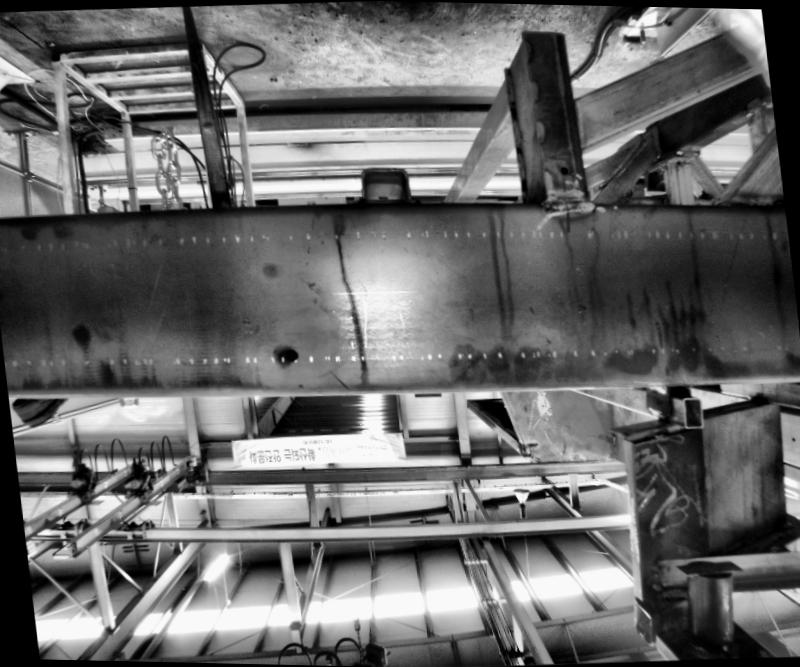bracket: (343, 155, 420, 203)
hole: (282, 346, 296, 359), (557, 164, 568, 174)
welding: (538, 182, 587, 205)
